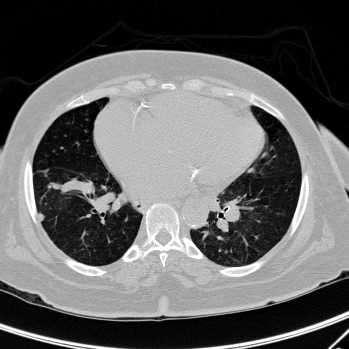nodule: (37, 213, 45, 221)
